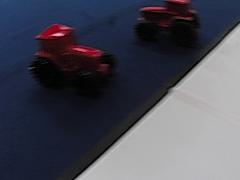Tracktor: (28, 23, 119, 87), (133, 0, 199, 42)
